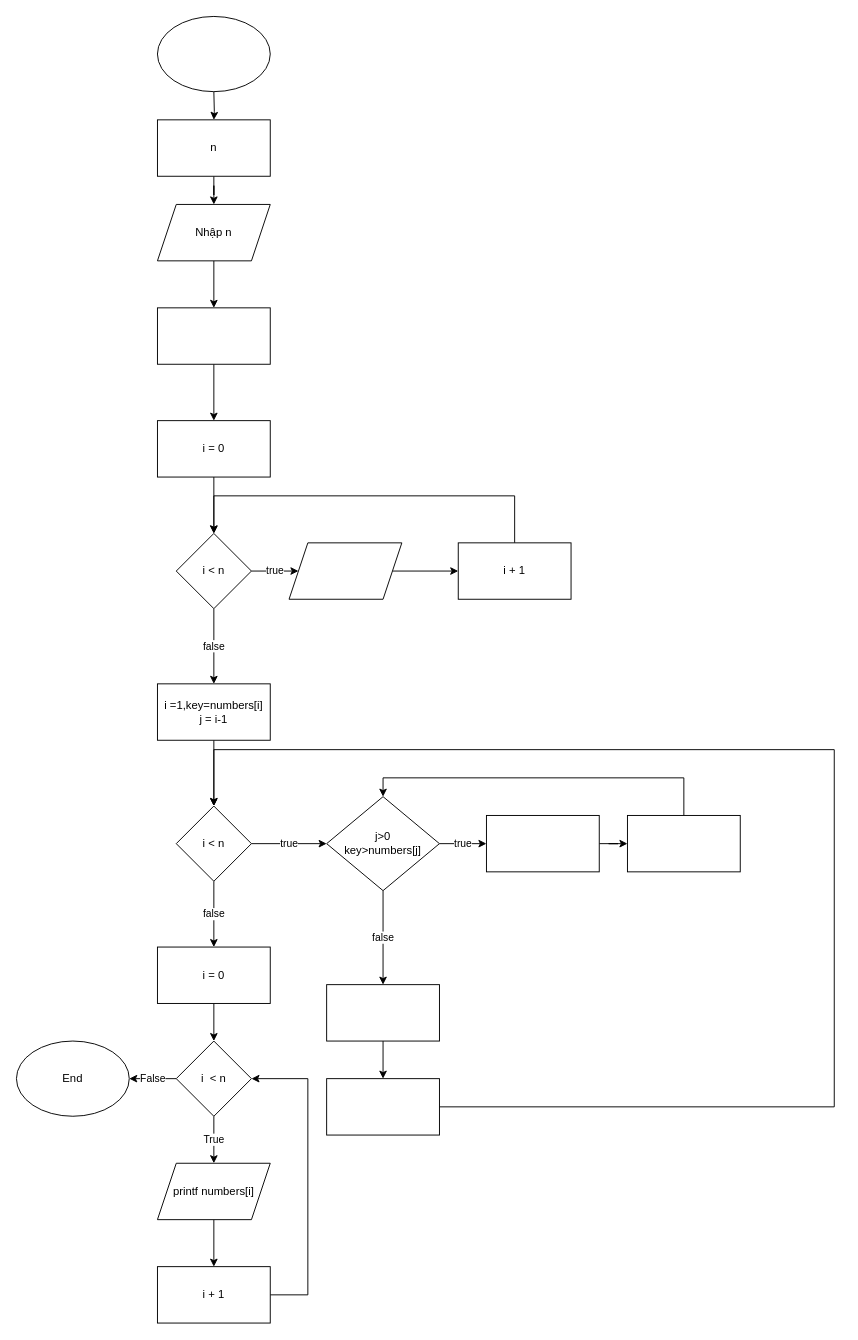
This 858x1340 diagram has some shape labels left out. Here are the shapes that lost their labels. From the top down, the centre of each, then its label:
At (213,54): "Start".
At (213,335): "numbers[n]".
At (345,570): "Nhập numbers[i]".
At (542,843): "numbers [j+1] = numbers[j]".
At (683,843): "j -= 1".
At (382,1012): "numbers [j+1] = key".
At (382,1106): "i +1".
